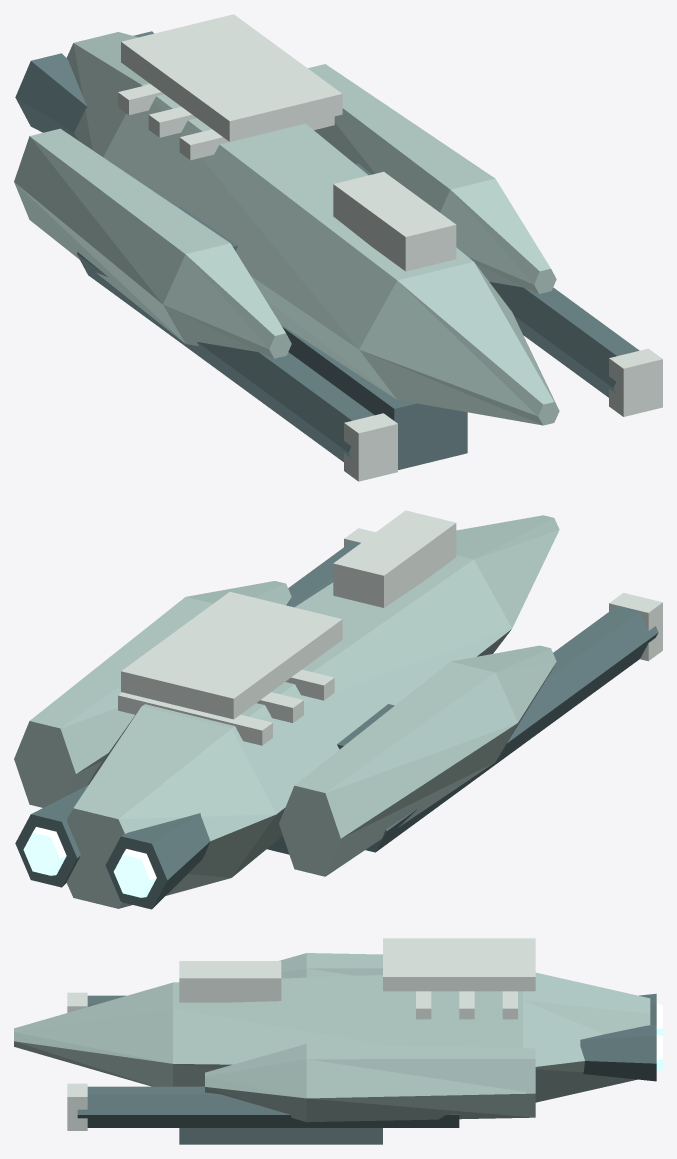
The picture shows the model from 3 angles, top to bottom: view 1: azimuth 30°, elevation 25°; view 2: azimuth 150°, elevation 25°; view 3: azimuth 270°, elevation 25°; orthographic projection. The views are drawn at different scales.
Bounding box in the file's own units: 2.22 × 1.48 × 5.
